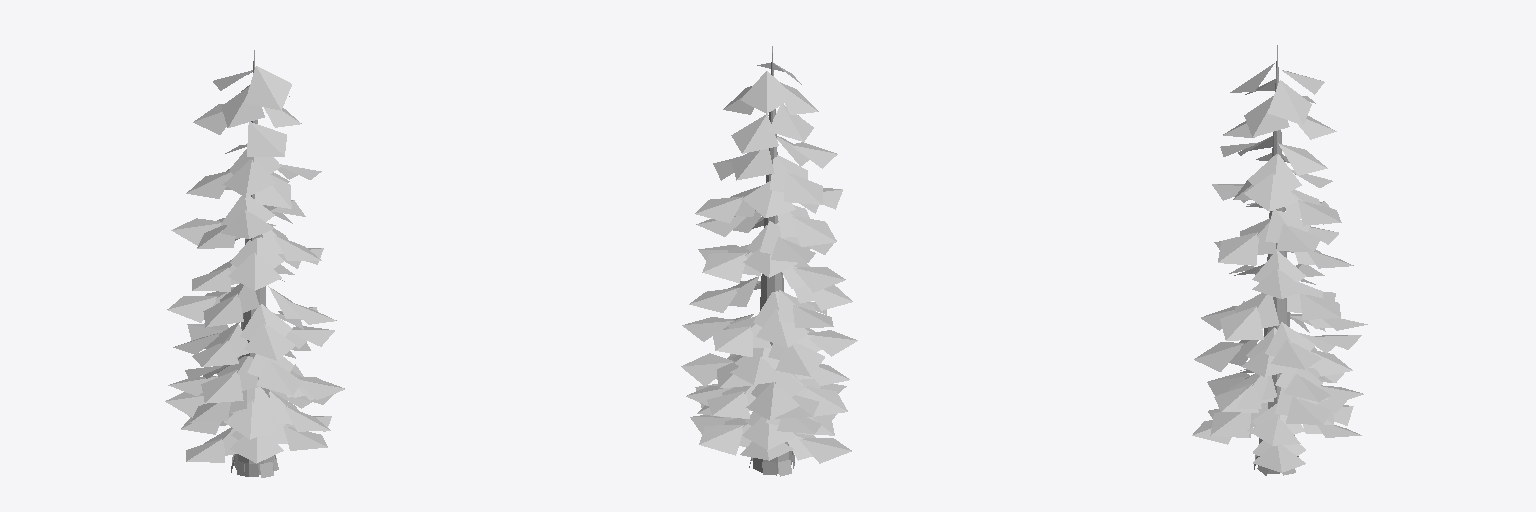
The model's file is pines.obj.
3 views of the same model, side by side, from view 1: azimuth 30°, elevation 25°; view 2: azimuth 150°, elevation 25°; view 3: azimuth 270°, elevation 25° (orthographic).
Parts seen in each view (by area): view 1: pyramid_selection; view 2: pyramid_selection; view 3: pyramid_selection.
Boxes of the visible parts, x1=… form: pyramid_selection: x1=165, y1=50, x2=344, y2=477; pyramid_selection: x1=681, y1=46, x2=857, y2=476; pyramid_selection: x1=1192, y1=45, x2=1367, y2=475.
Size of the model in its own units: 9.2 by 24.12 by 9.11.